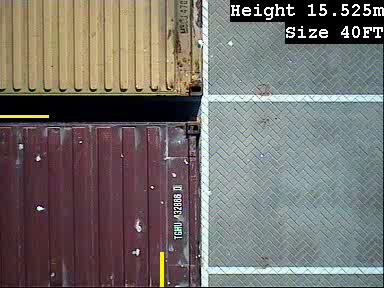groundmarker_2: (193, 39, 229, 100)
